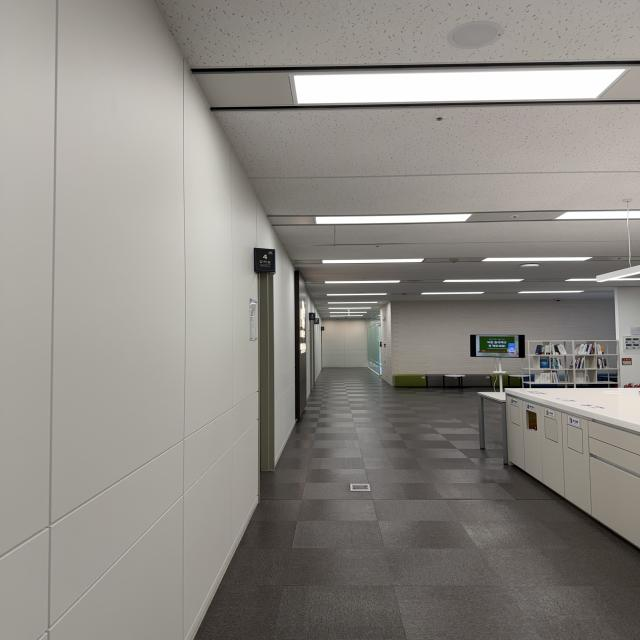room4: (256, 250, 276, 274)
